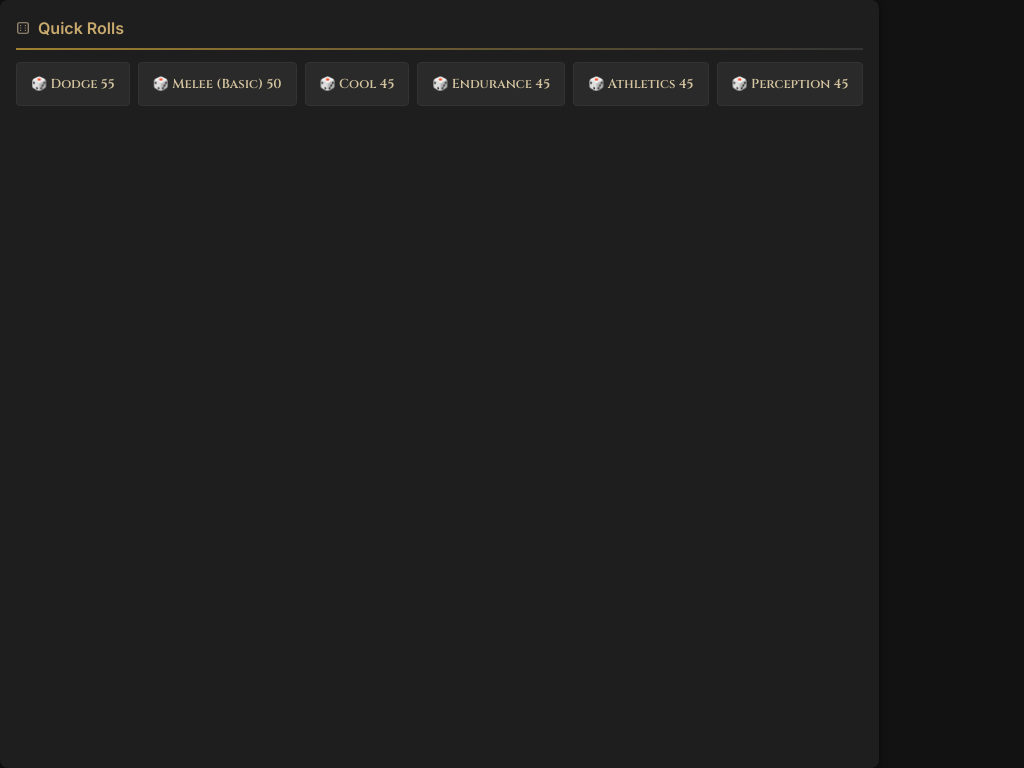
QuickRollBar — RollDialog › closes RollDialog when Cancel is clicked
Click the button with aria-label "Roll Dodge" at (73, 84), box [16,62,130,106]
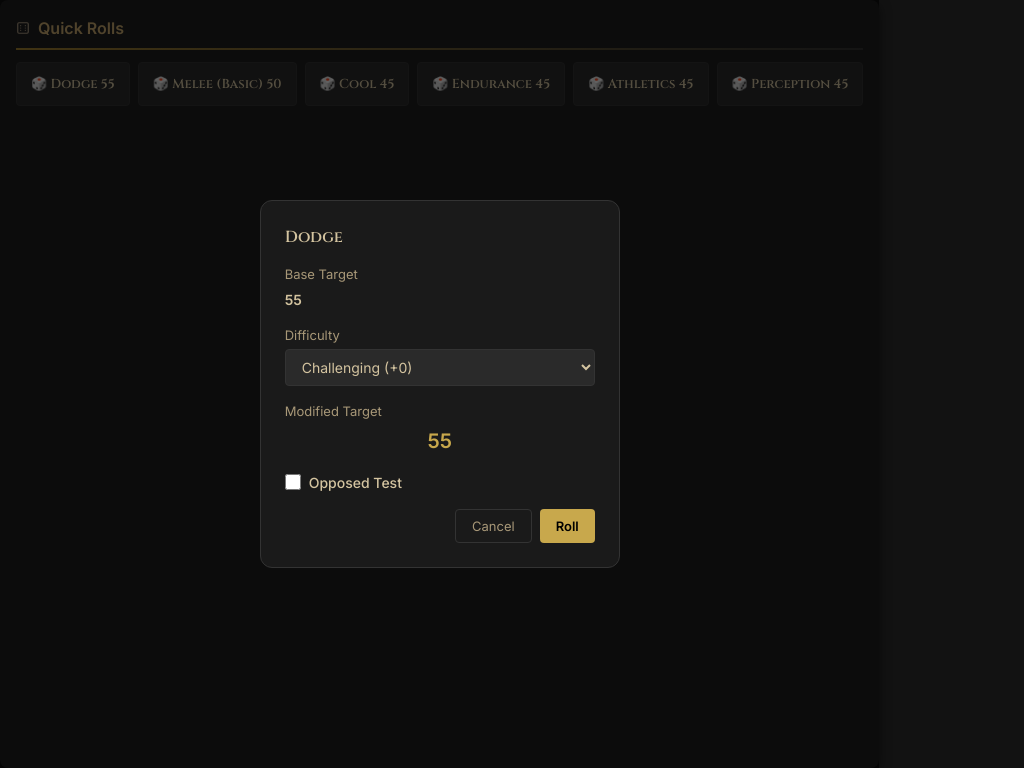
Click the button "Cancel" at (493, 526), box [455,509,532,543]
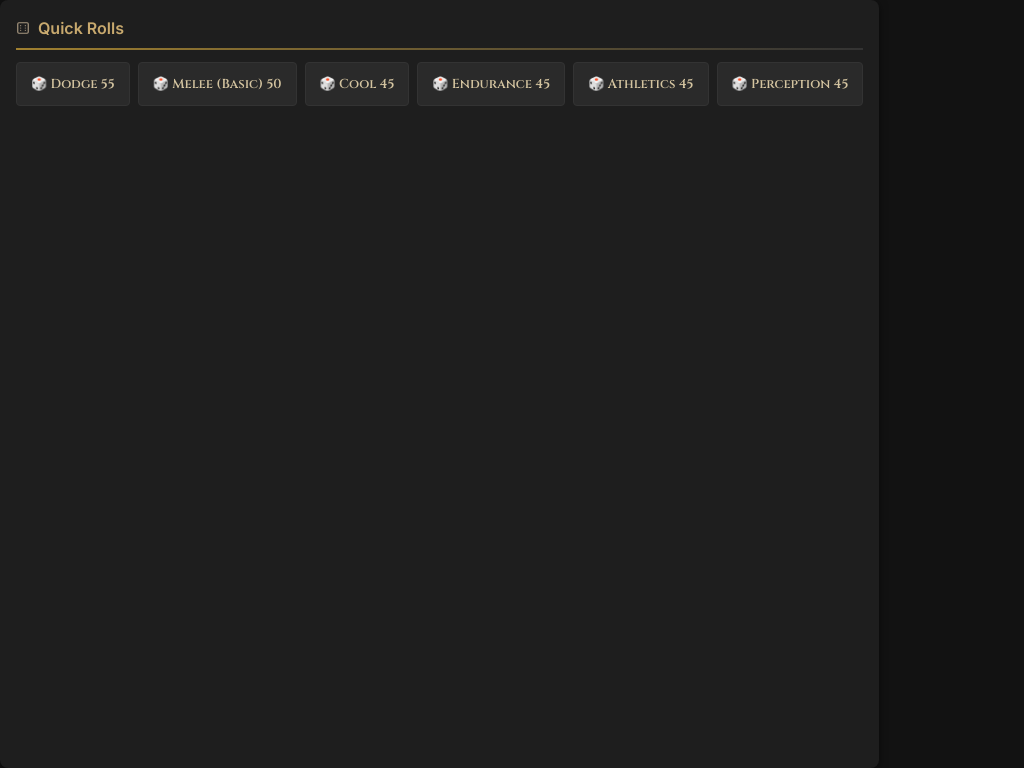
Result: the dialog "Roll Dialog" is gone
